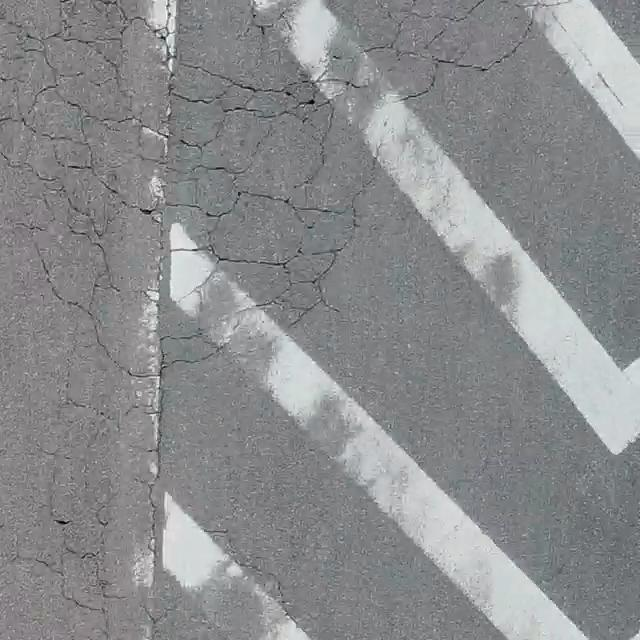GRIETA: (203, 529, 290, 614)
PIEL DE COCODRILO: (0, 0, 582, 639)
